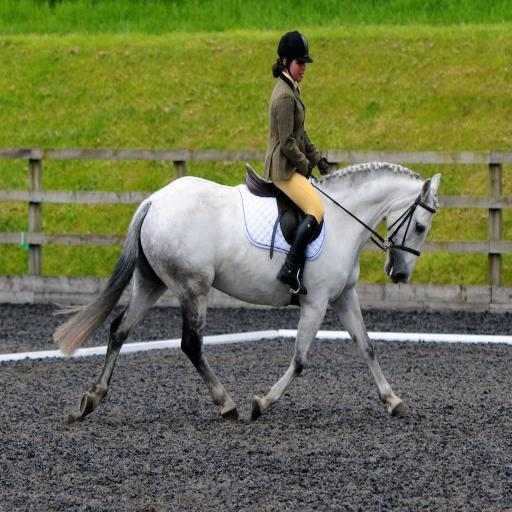horse: (53, 160, 444, 424)
